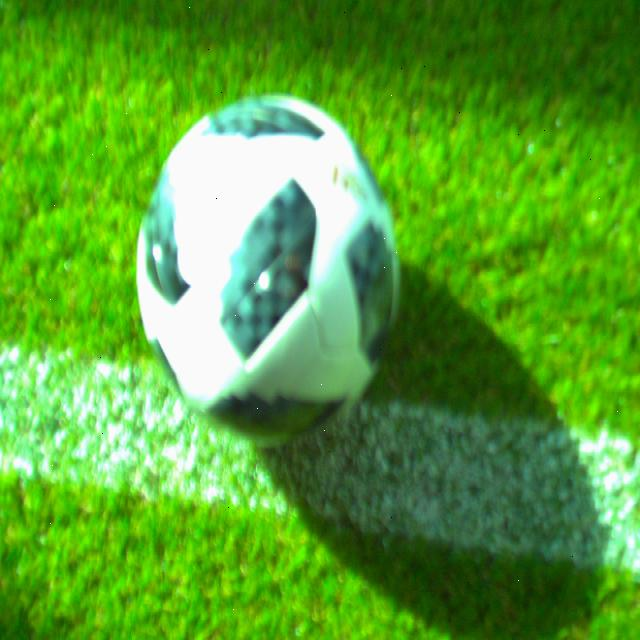ball: (135, 88, 402, 445)
